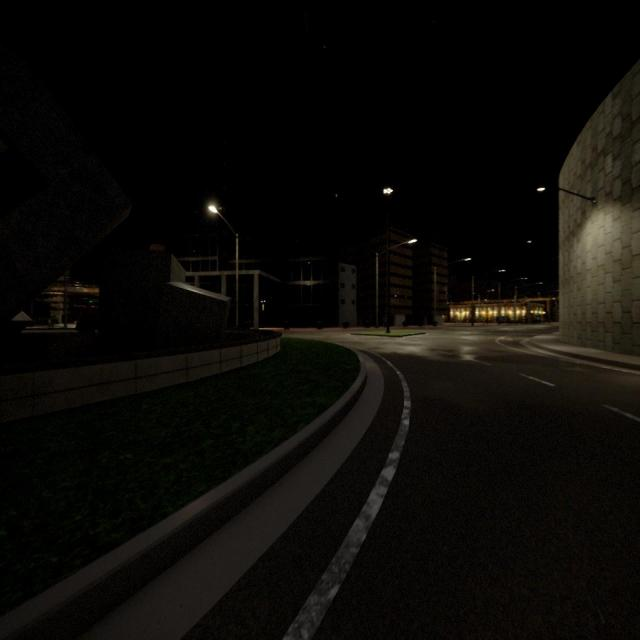traffic_light: (89, 299, 93, 304)
